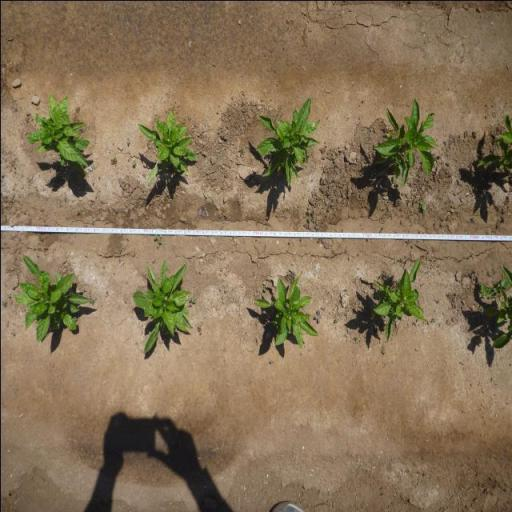plant: (13, 251, 90, 343), (252, 93, 322, 188), (374, 97, 443, 189), (131, 258, 189, 356), (24, 92, 88, 176), (251, 272, 318, 350), (368, 258, 427, 345), (136, 108, 198, 188), (475, 114, 512, 175), (479, 296, 512, 351)
weed: (478, 277, 508, 298), (314, 308, 322, 324), (153, 234, 162, 248), (108, 156, 118, 166), (188, 296, 198, 306), (390, 175, 400, 185), (418, 200, 426, 210), (36, 236, 44, 245), (9, 329, 17, 337), (237, 147, 245, 155), (118, 245, 125, 254), (0, 298, 6, 306), (130, 159, 136, 166), (196, 326, 202, 333), (306, 216, 313, 222), (262, 284, 267, 292), (405, 238, 412, 243), (126, 136, 130, 144), (447, 292, 451, 300), (334, 317, 338, 324), (429, 318, 436, 322), (268, 360, 274, 364), (316, 226, 320, 231), (353, 336, 358, 340), (224, 212, 227, 218)
